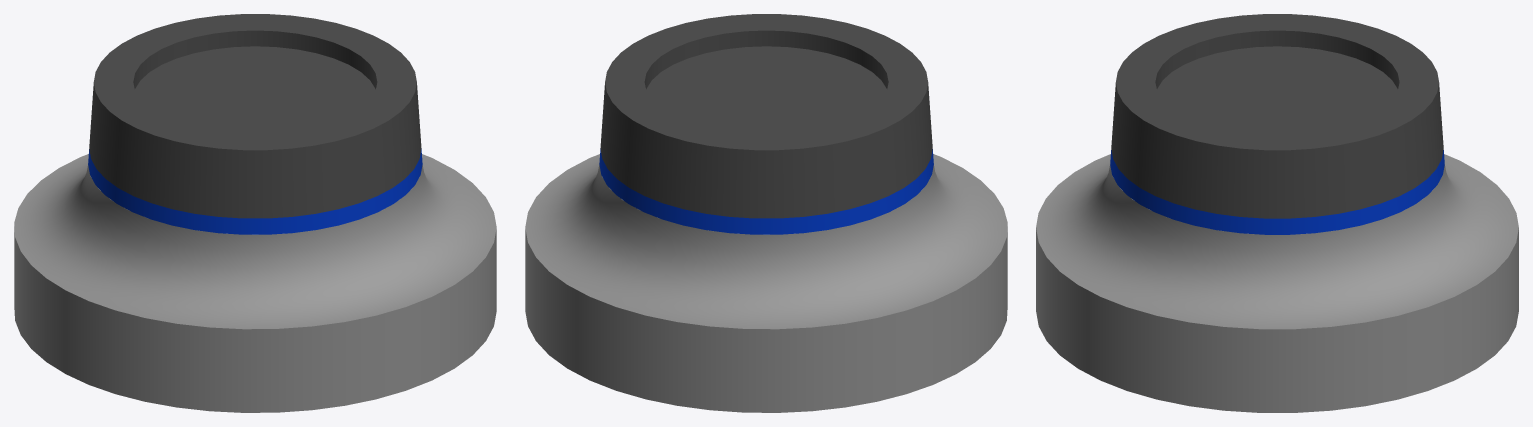
3 views of the same model, side by side, from view 1: azimuth 30°, elevation 25°; view 2: azimuth 150°, elevation 25°; view 3: azimuth 270°, elevation 25° (orthographic).
Parts seen in each view (by area): view 1: FBXASC195FBXASC146FBXASC195FBXASC134FBXASC194FBXASC182FBXASC, FBXASC195FBXASC135FBXASC195FBXASC144FBXASC194FBXASC179FBXASC, FBXASC194FBXASC187FBXASC195FBXASC186FBXASC195FBXASC144FBXASC; view 2: FBXASC195FBXASC146FBXASC195FBXASC134FBXASC194FBXASC182FBXASC, FBXASC195FBXASC135FBXASC195FBXASC144FBXASC194FBXASC179FBXASC, FBXASC194FBXASC187FBXASC195FBXASC186FBXASC195FBXASC144FBXASC; view 3: FBXASC195FBXASC146FBXASC195FBXASC134FBXASC194FBXASC182FBXASC, FBXASC195FBXASC135FBXASC195FBXASC144FBXASC194FBXASC179FBXASC, FBXASC194FBXASC187FBXASC195FBXASC186FBXASC195FBXASC144FBXASC.
Boxes of the visible parts, x1,y1,x2,y2 form: FBXASC195FBXASC146FBXASC195FBXASC134FBXASC194FBXASC182FBXASC: (14,154,496,412); FBXASC195FBXASC135FBXASC195FBXASC144FBXASC194FBXASC179FBXASC: (89,14,421,218); FBXASC194FBXASC187FBXASC195FBXASC186FBXASC195FBXASC144FBXASC: (88,149,422,234); FBXASC195FBXASC146FBXASC195FBXASC134FBXASC194FBXASC182FBXASC: (525,154,1007,412); FBXASC195FBXASC135FBXASC195FBXASC144FBXASC194FBXASC179FBXASC: (600,14,932,218); FBXASC194FBXASC187FBXASC195FBXASC186FBXASC195FBXASC144FBXASC: (599,149,933,234); FBXASC195FBXASC146FBXASC195FBXASC134FBXASC194FBXASC182FBXASC: (1036,154,1518,412); FBXASC195FBXASC135FBXASC195FBXASC144FBXASC194FBXASC179FBXASC: (1111,14,1443,218); FBXASC194FBXASC187FBXASC195FBXASC186FBXASC195FBXASC144FBXASC: (1110,150,1444,234).
Bounding box in the file's own units: 0.1382 × 0.1384 × 0.0725.
